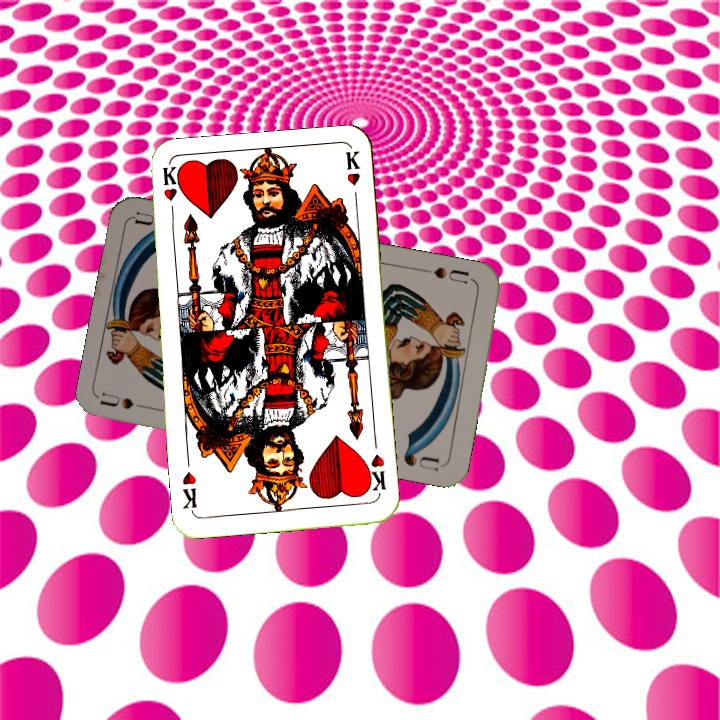HK: (361, 450, 388, 498), (158, 164, 179, 223)
SU: (99, 388, 158, 413), (419, 263, 472, 287)
